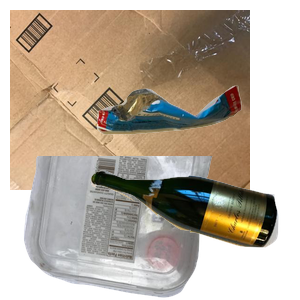cardboard: (10, 10, 250, 190)
glass: (88, 167, 300, 300)
plastic: (21, 156, 226, 300)
trash: (94, 83, 300, 210)
